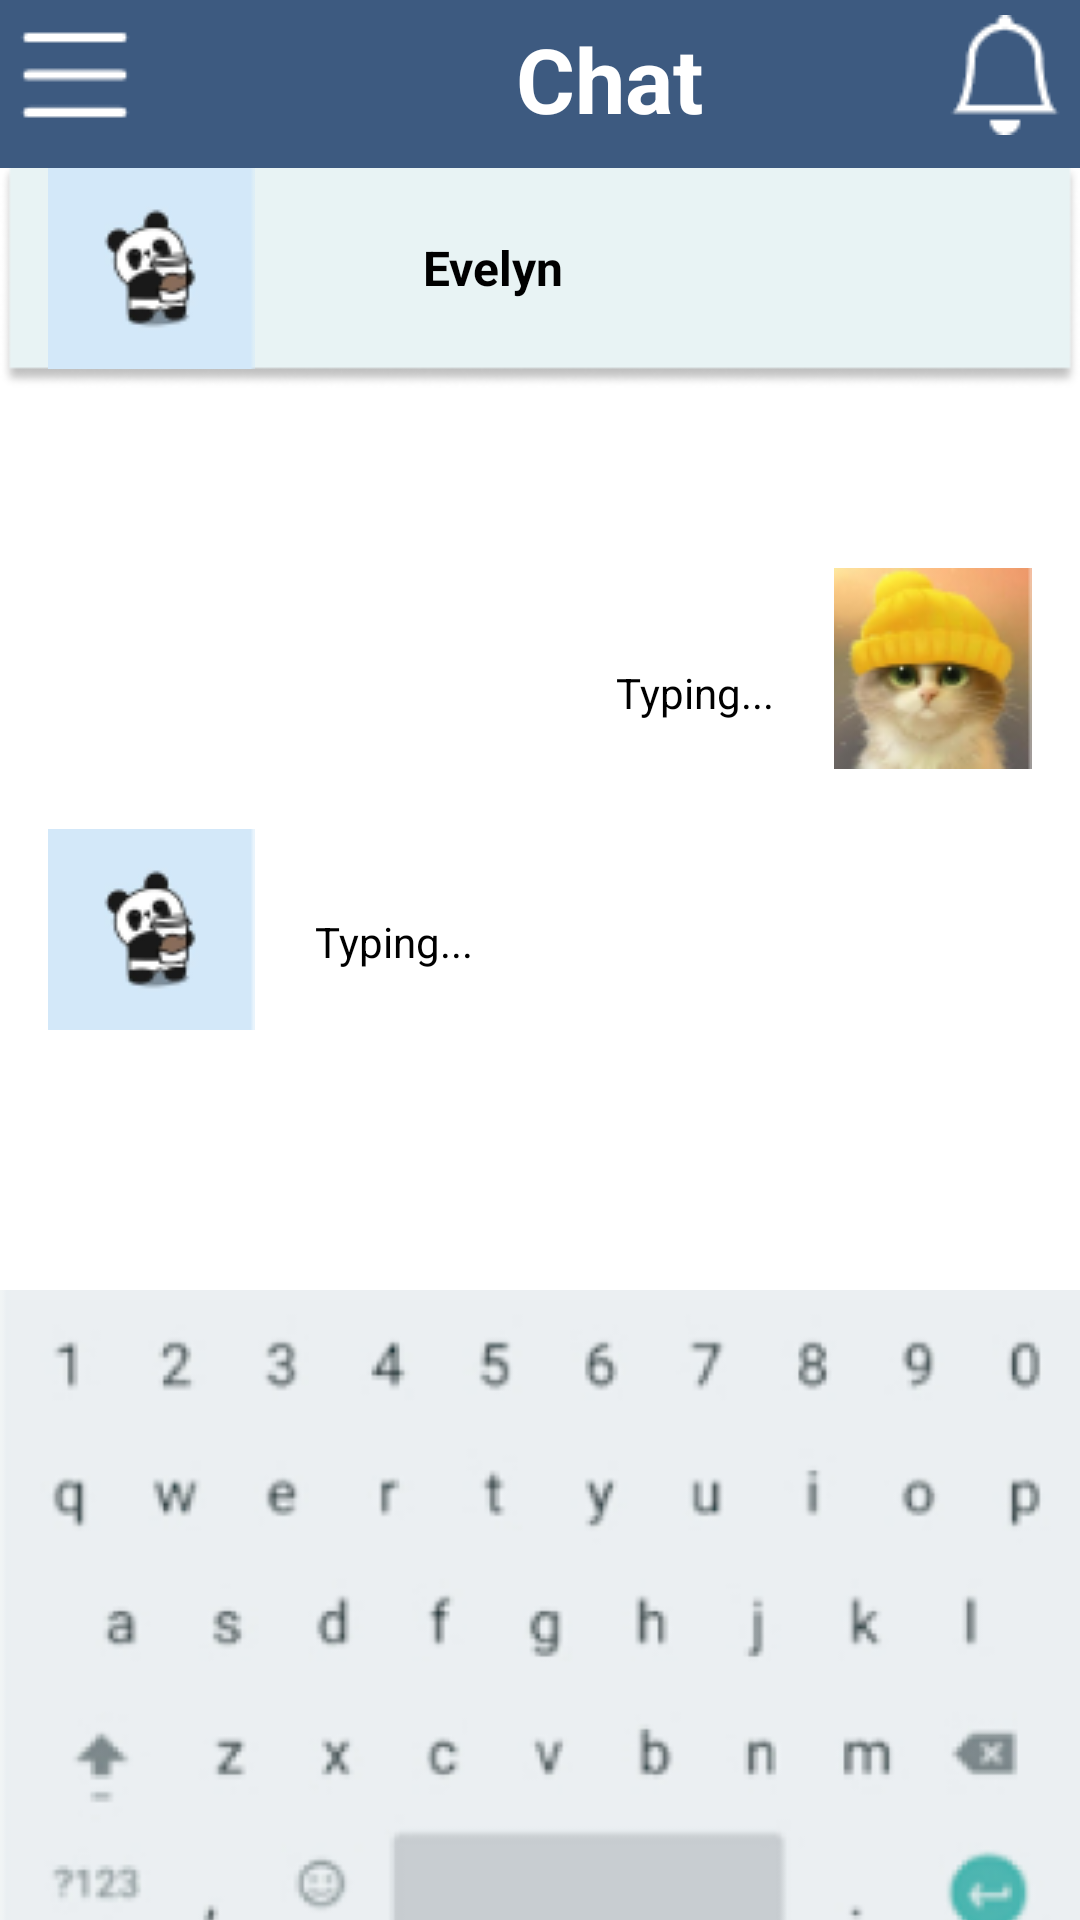

Point at icon controls on the screen. Image size 1080w x 1920h, points as [x,y].
bellicon: [1005,75]
catprofileyellow: [933,668]
listicon: [75,75]
profilepanda: [151,268], [150,929]
